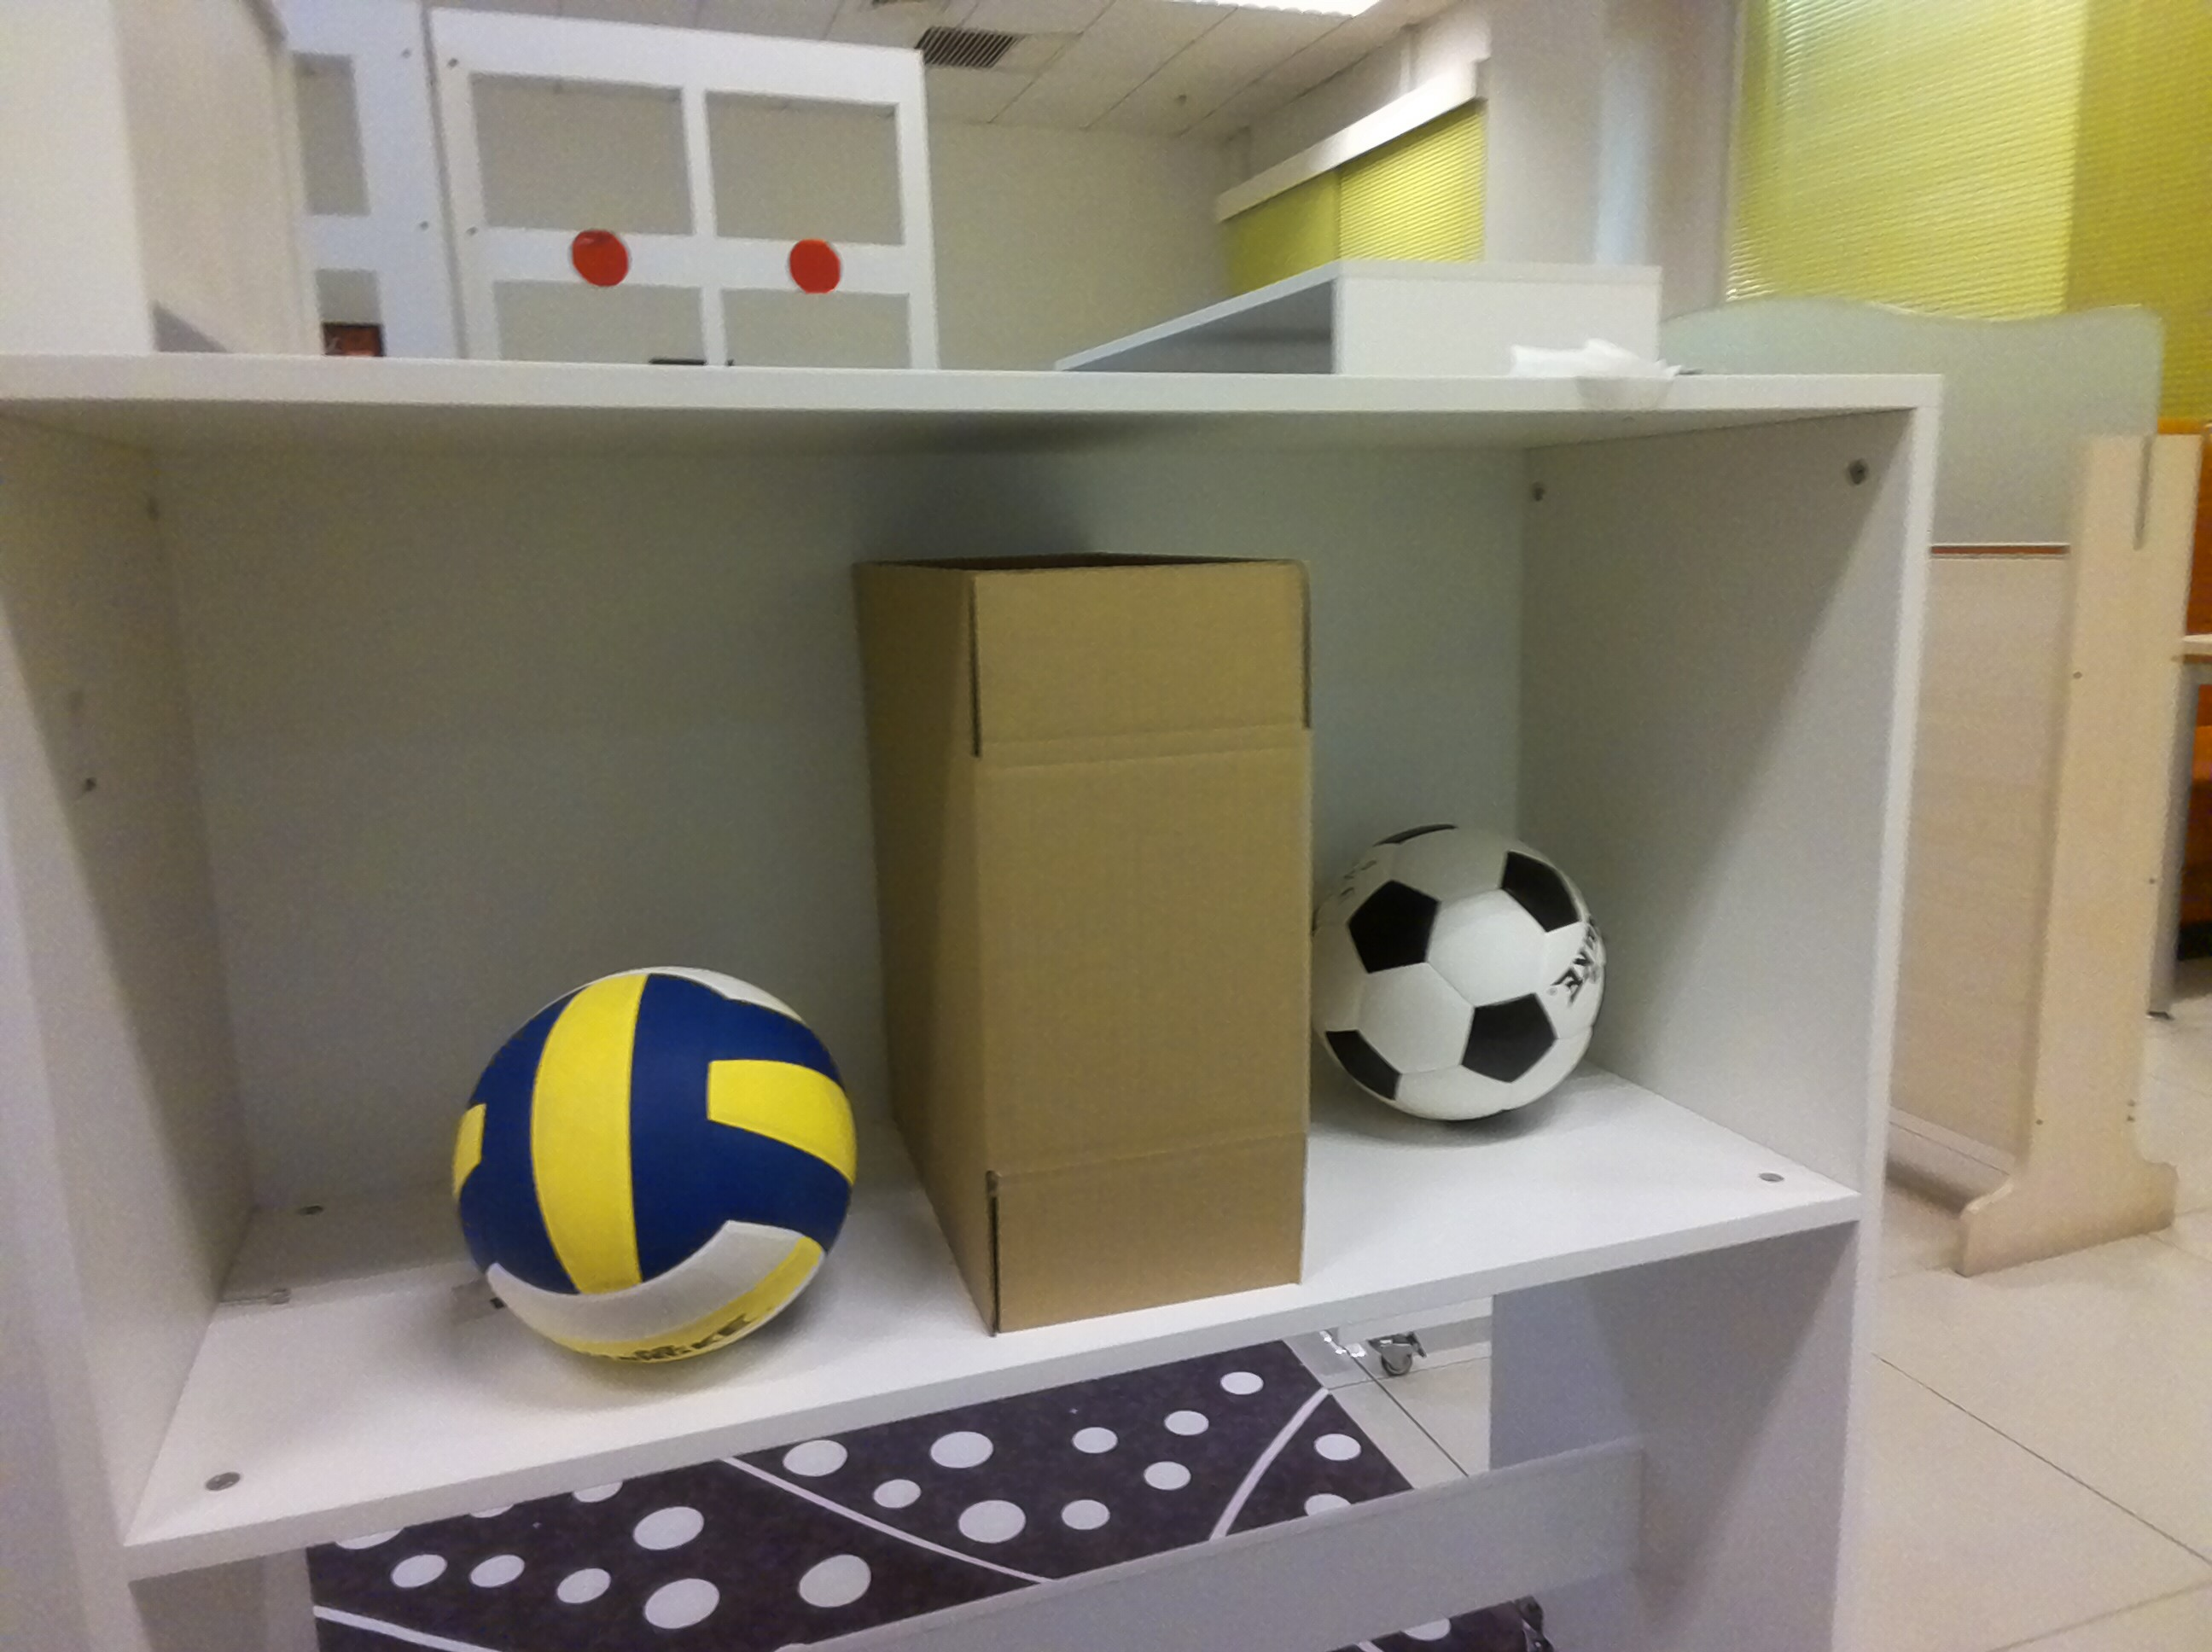football: (1305, 798, 1631, 1137)
volleyball: (406, 953, 871, 1388)
